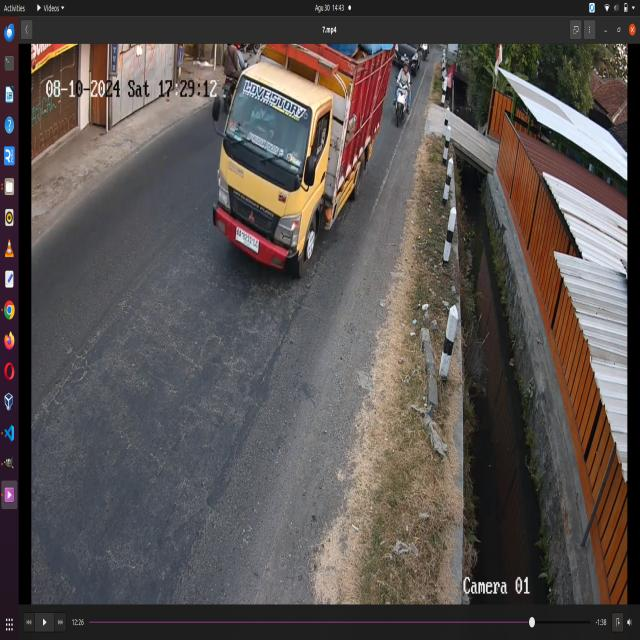person_without_seatbelt: (246, 87, 275, 154)
